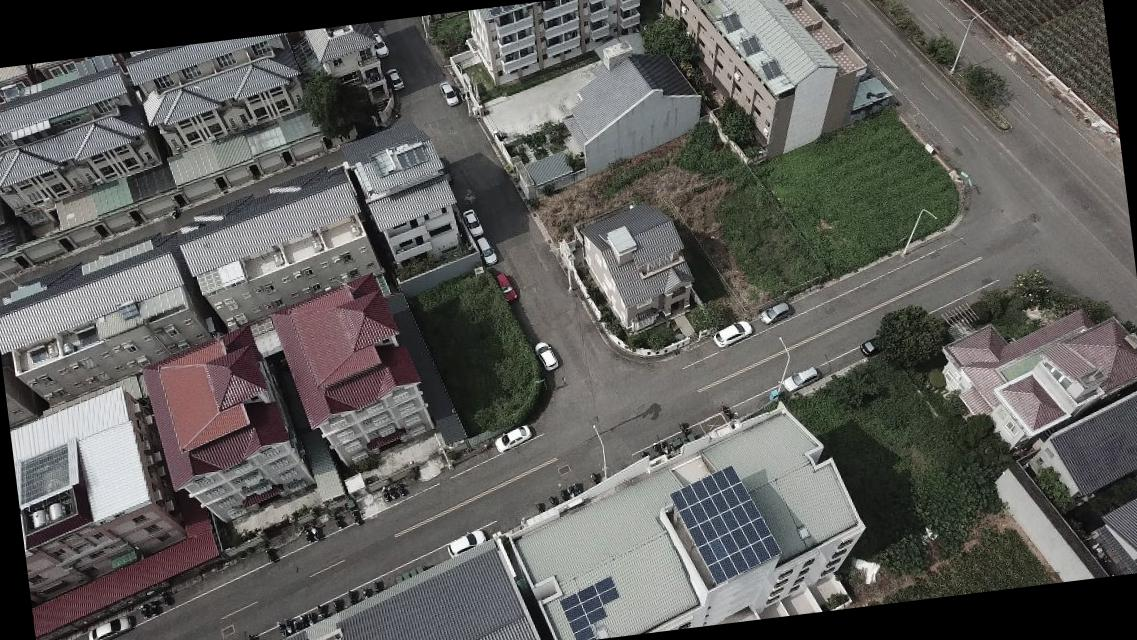vehicle: (709, 318, 754, 349), (444, 528, 488, 558), (491, 422, 532, 453), (85, 614, 135, 639), (781, 365, 820, 390), (532, 340, 558, 372), (758, 302, 790, 326), (494, 270, 517, 302), (475, 234, 497, 266), (461, 207, 482, 238), (856, 335, 885, 357), (439, 78, 459, 106), (368, 32, 390, 57), (386, 64, 404, 92)
